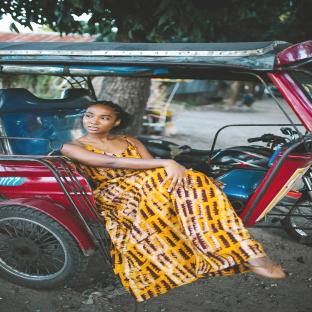Human: (61, 101, 284, 301)
